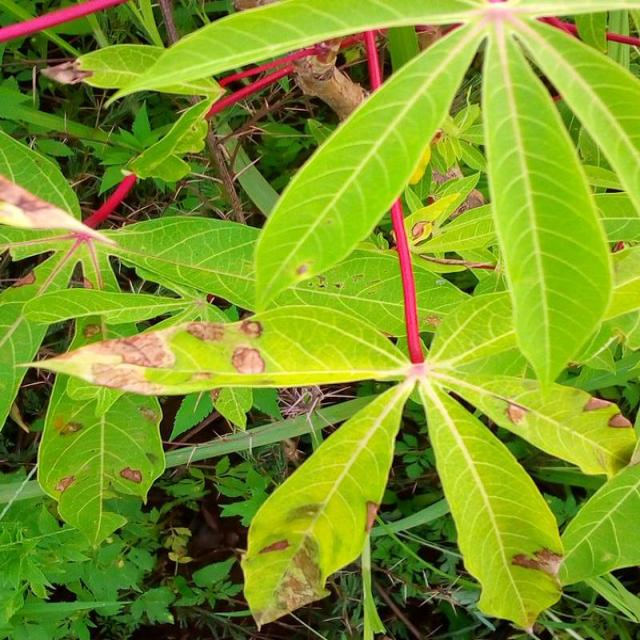cassava leaf: (5, 2, 638, 635), (251, 19, 485, 314), (479, 17, 614, 393), (239, 377, 412, 630)
